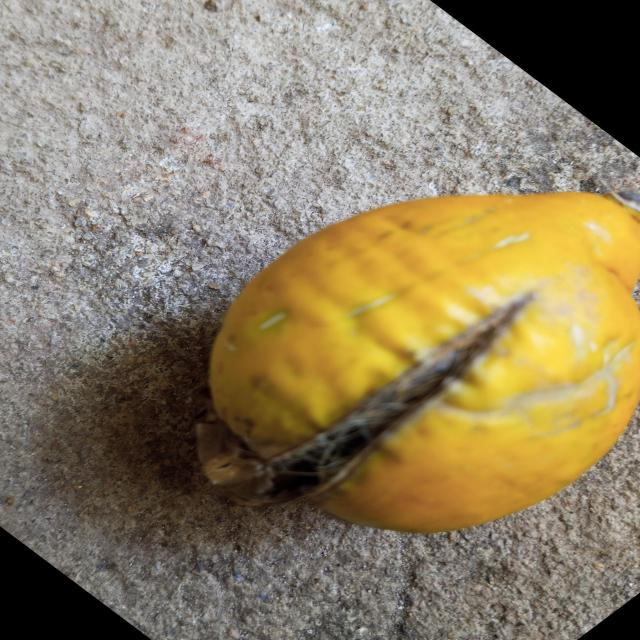damaged: (203, 192, 640, 537)
